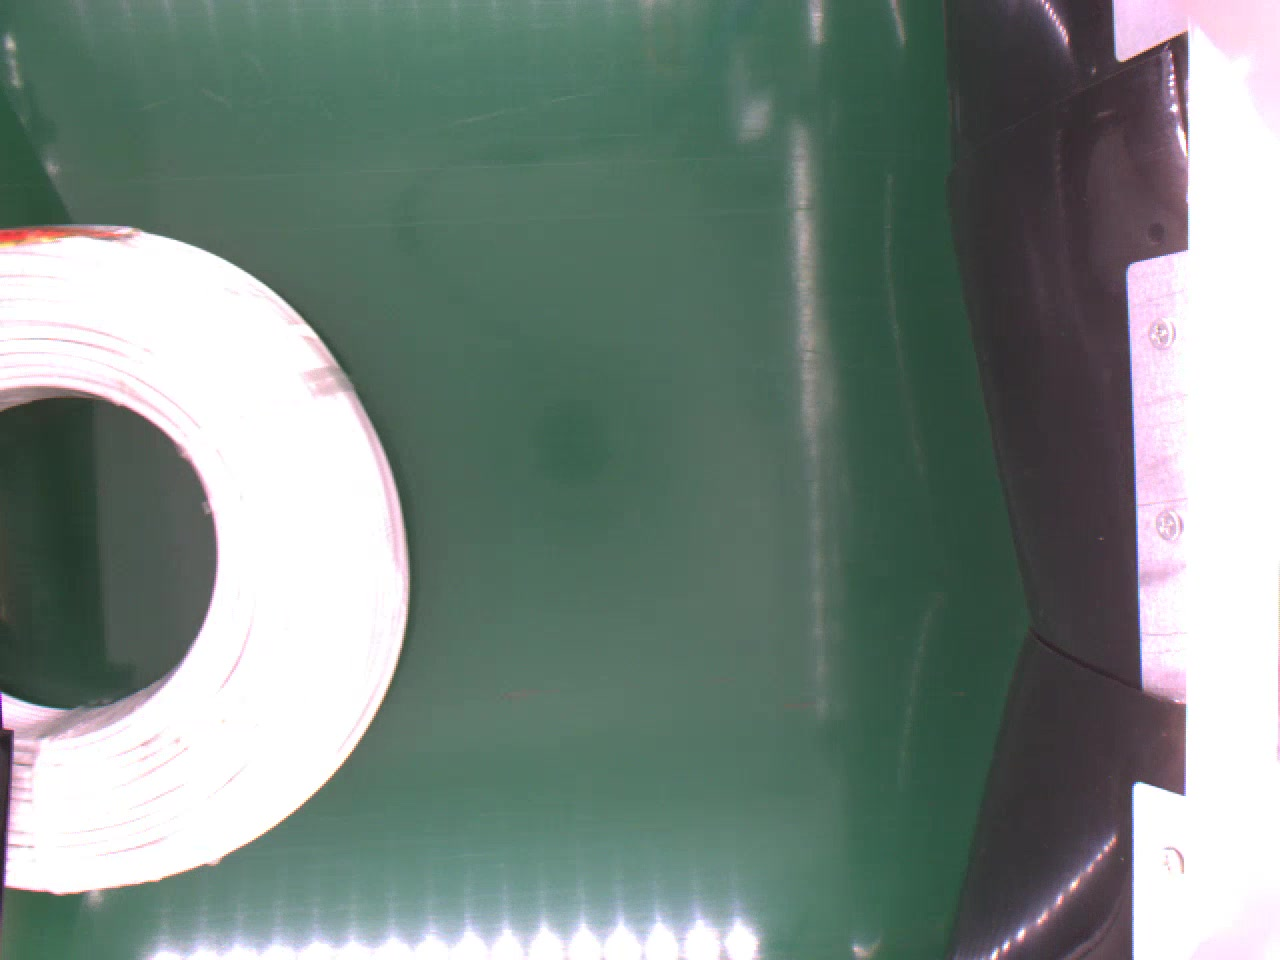white: (0, 220, 414, 896)
